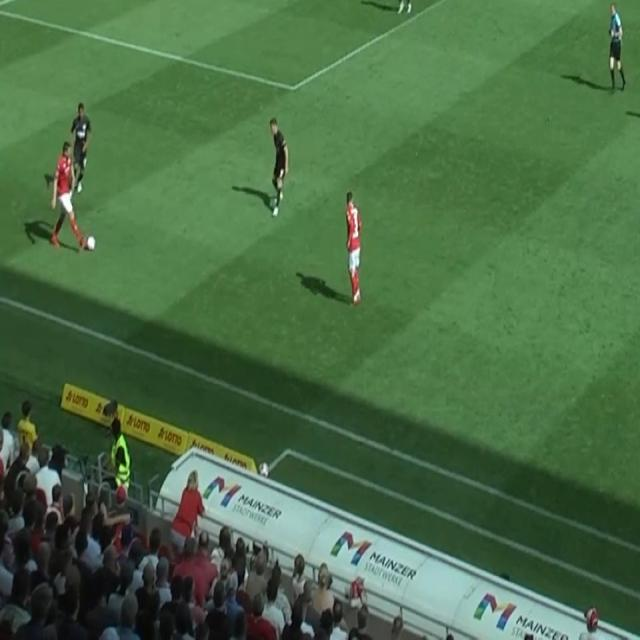ball: (87, 235, 96, 252)
